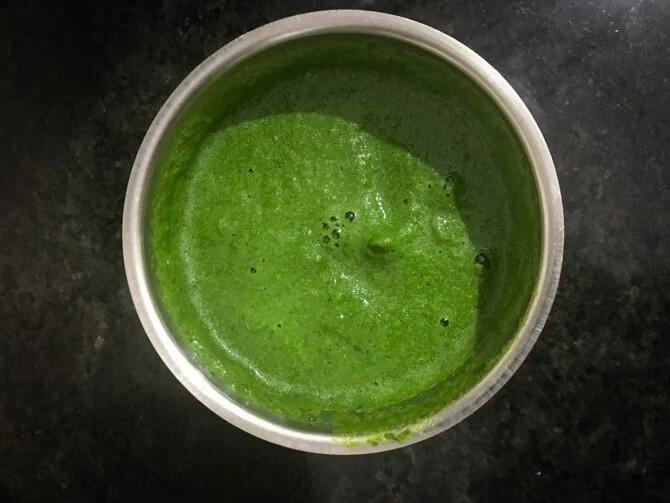GreenChutney: (155, 42, 523, 410)
